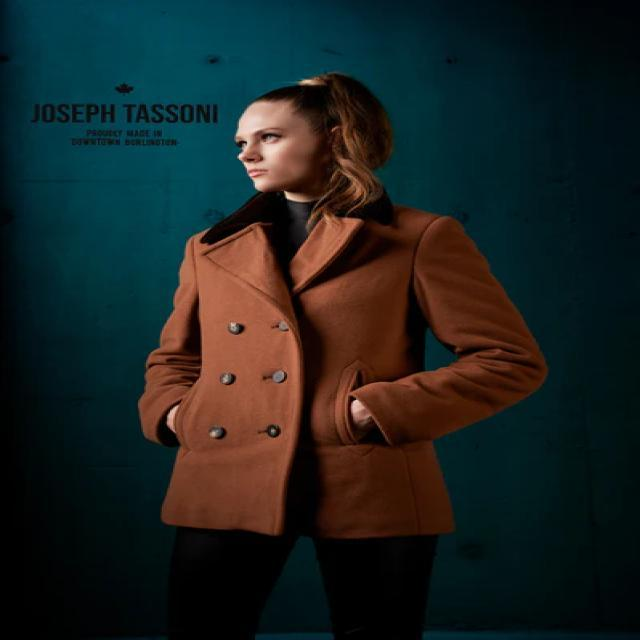coat: (135, 189, 550, 544)
trousers: (153, 516, 440, 640)
